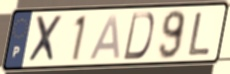1: (70, 13, 89, 63)
9: (156, 8, 187, 62)
A: (87, 13, 122, 62)
D: (121, 11, 156, 62)
L: (186, 11, 212, 57)
X: (26, 14, 65, 65)
